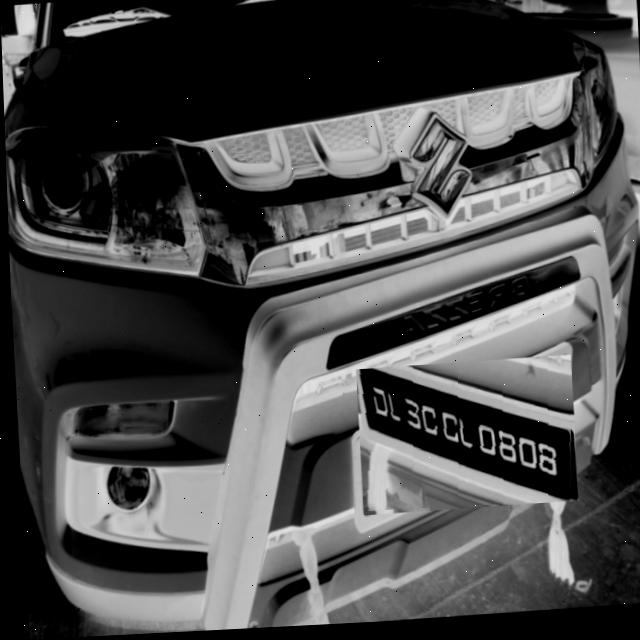Non_registered: (352, 360, 575, 519)
